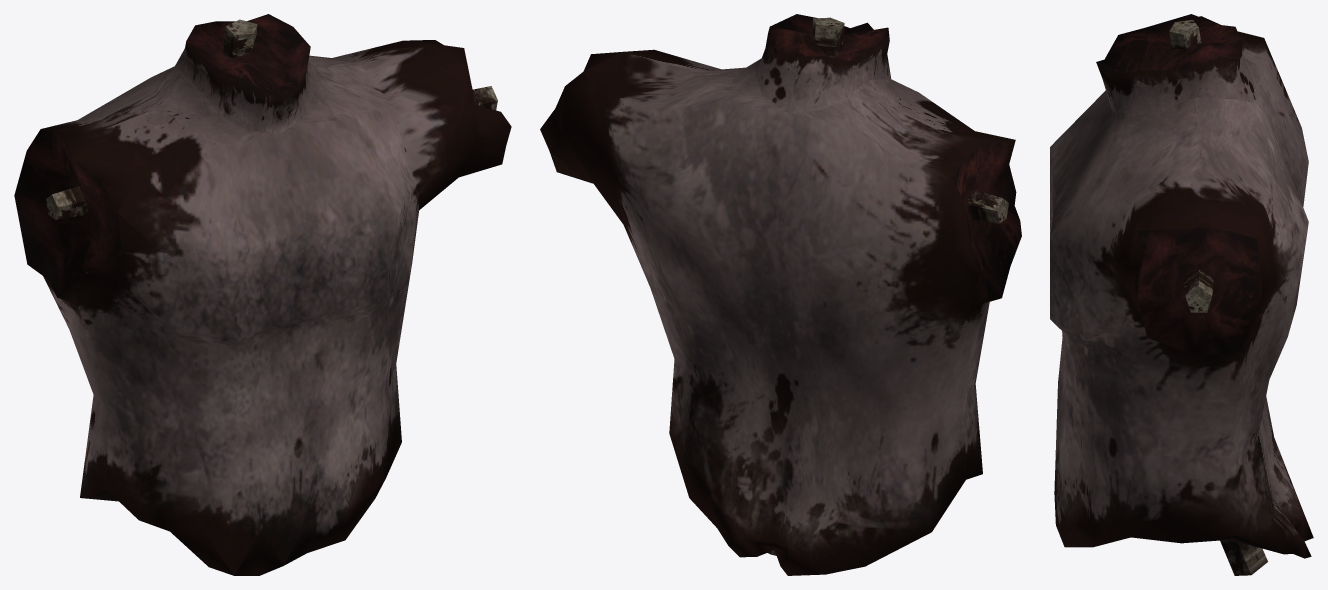
Rendered from corpse_male_torso.dae.
3 renders of one model, left to right at view 1: azimuth 30°, elevation 25°; view 2: azimuth 150°, elevation 25°; view 3: azimuth 270°, elevation 25°, orthographic. The views are drawn at different scales.
Parts seen in each view (by area): view 1: polySurface21; view 2: polySurface21; view 3: polySurface21.
Part boxes in pixels (x1,y1,x2,y2): polySurface21: [14, 14, 511, 575]; polySurface21: [540, 14, 1021, 575]; polySurface21: [1050, 14, 1313, 575].
Size of the model in its own units: 0.5045 by 0.5696 by 0.2508.
